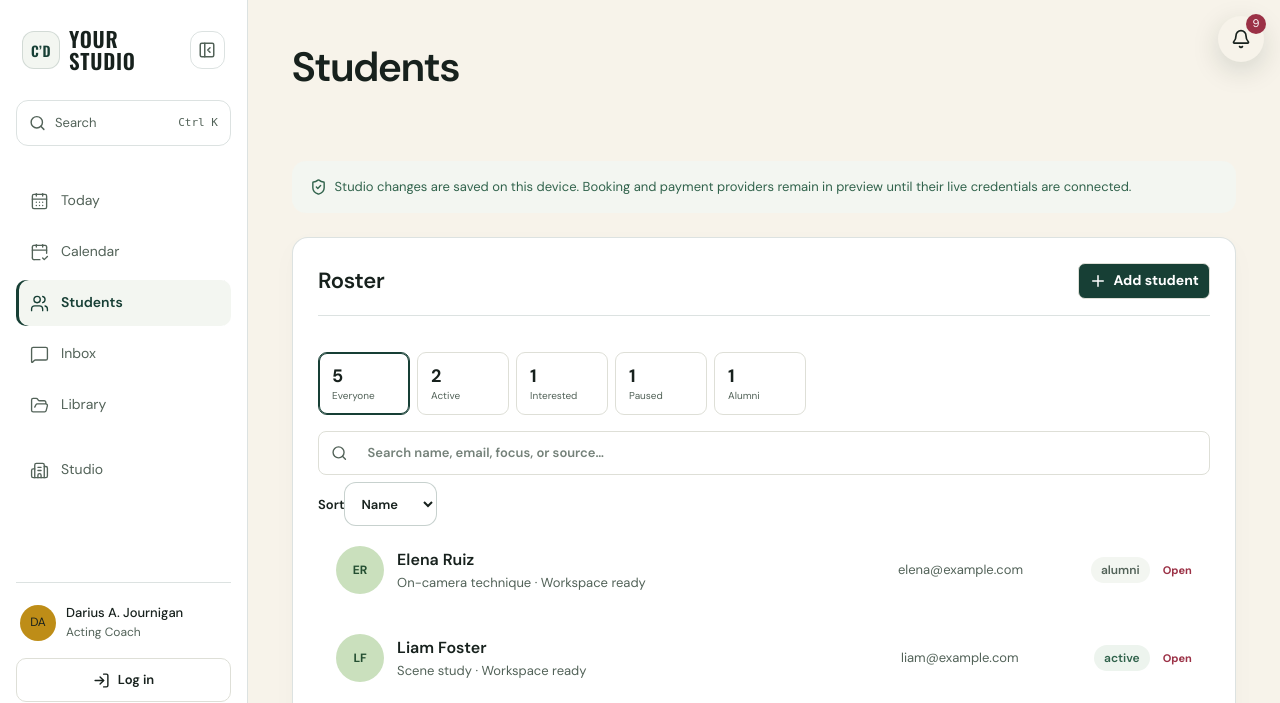
Test: 50 start-to-finish studio workflows › coach — 20 workflows › 04 adds a minor with guardian details
Click the button "Add student" at (1144, 281), box left=1078, top=263, right=1210, bottom=299
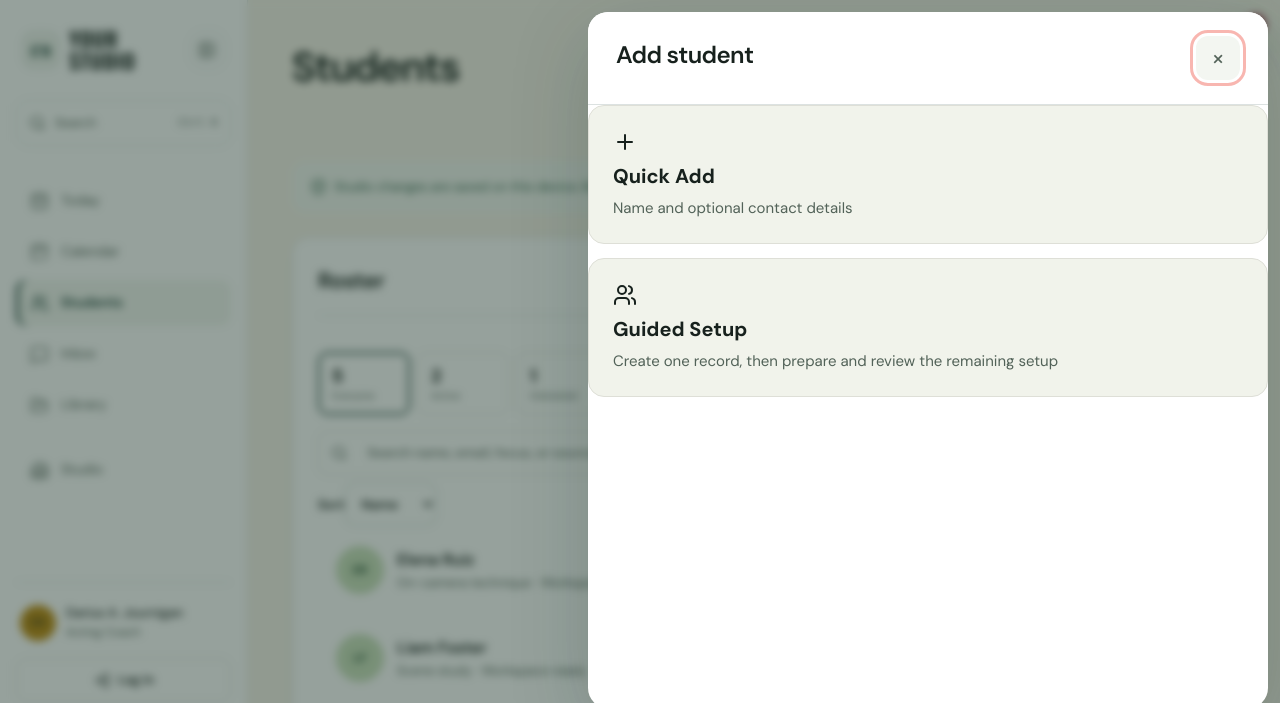
Click the button "Quick Add Name and optional contact details" at (664, 176), box left=588, top=105, right=1268, bottom=244
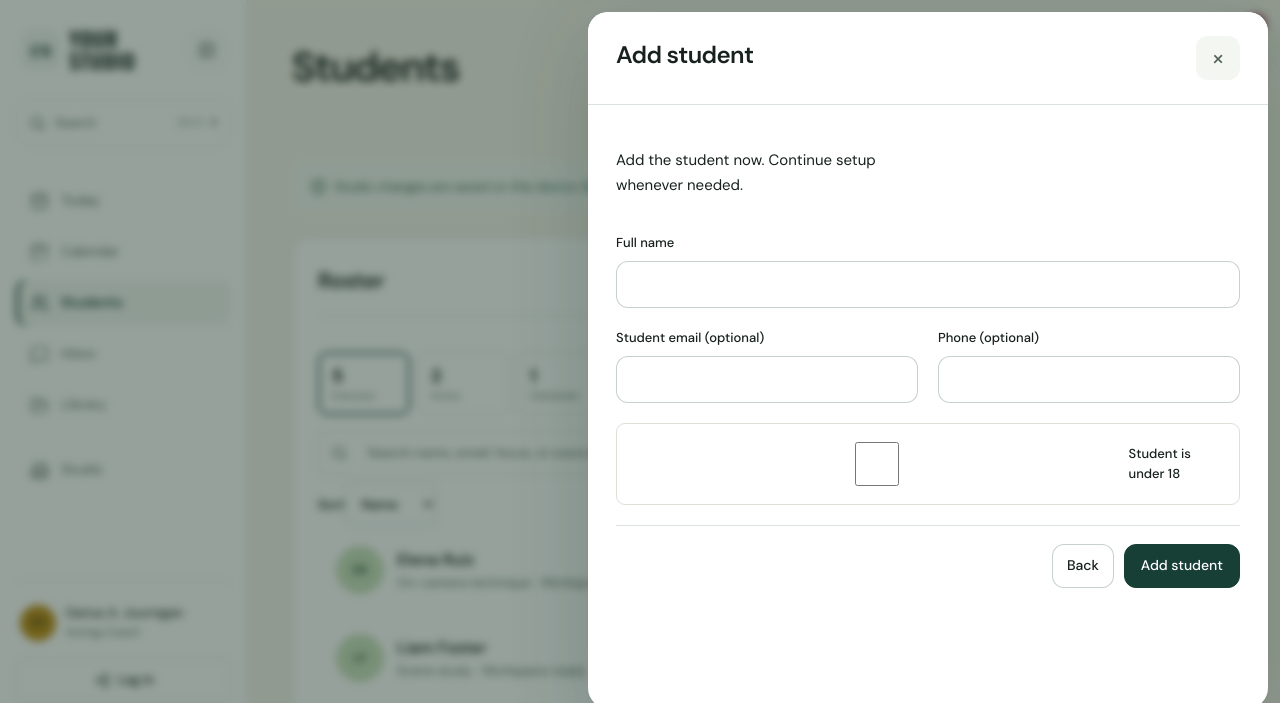
Type "Avery Stone" into the field labelled "Full name" at (928, 284), box left=616, top=261, right=1240, bottom=308
Click the checkbox labelled "Student is under 18" at (877, 464), box left=636, top=442, right=1118, bottom=486
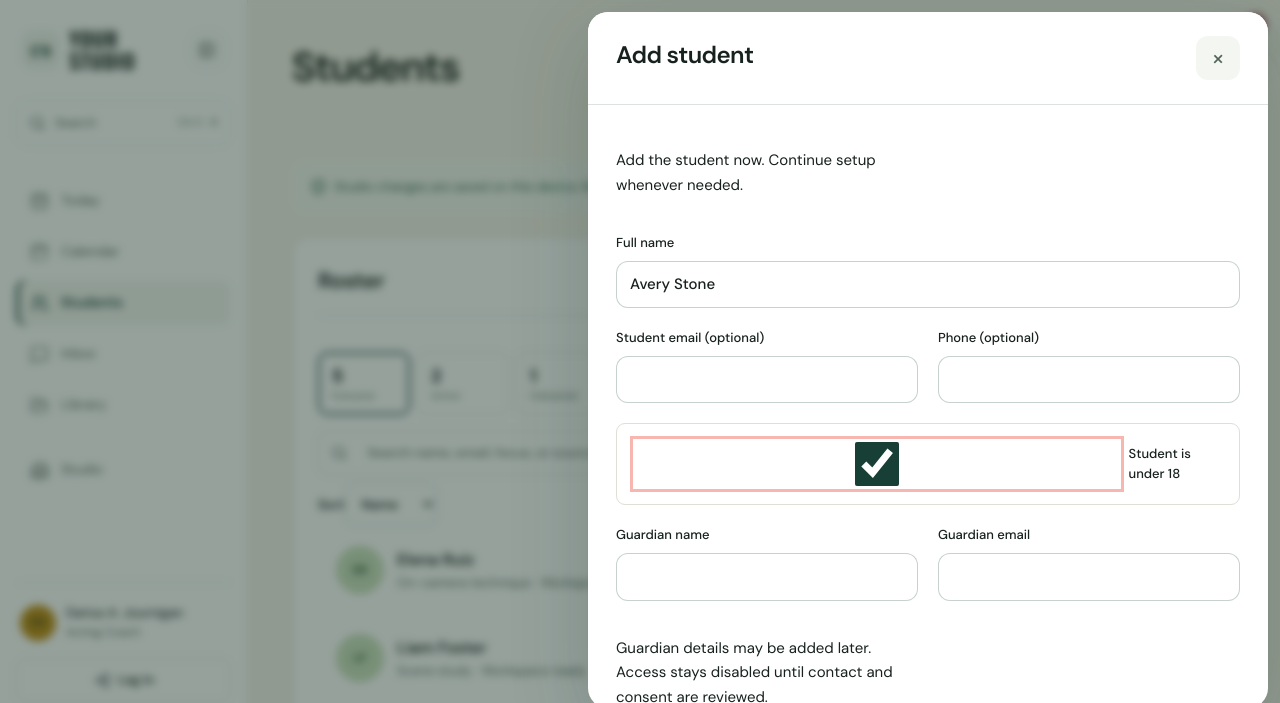
Type "Morgan Stone" into the field labelled "Guardian name" at (767, 577), box left=616, top=553, right=918, bottom=601
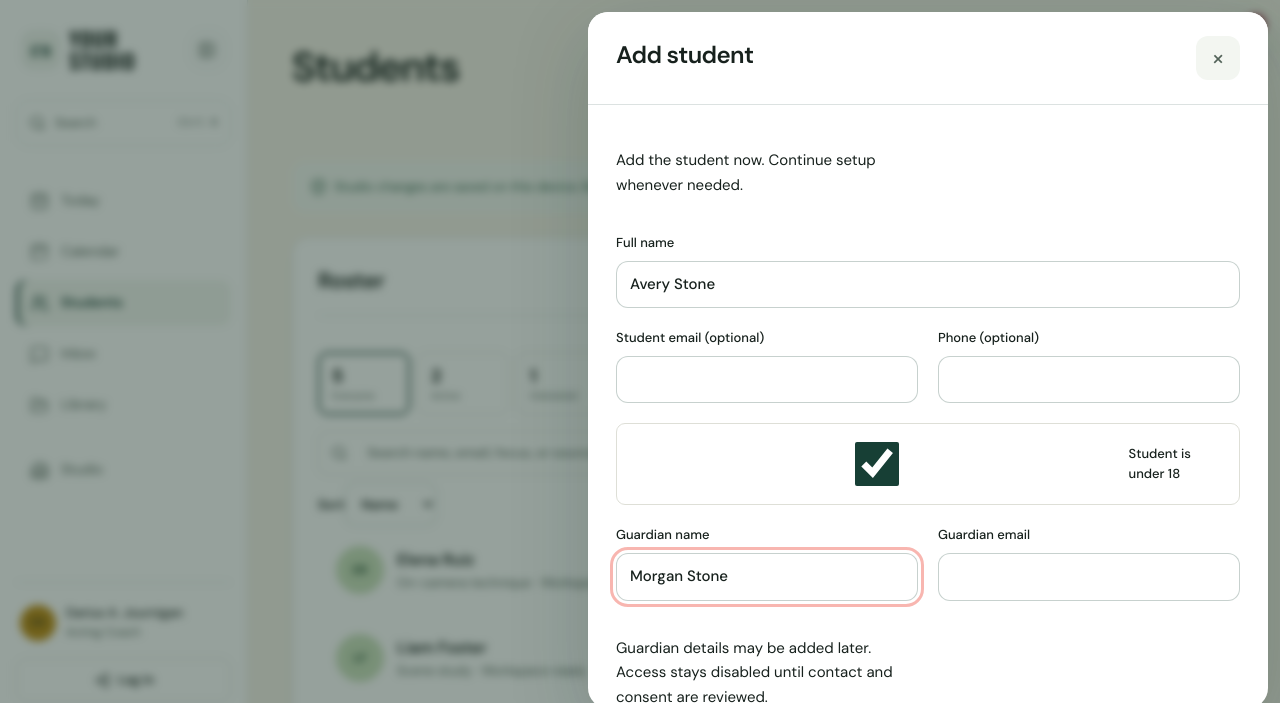
Type "morgan@example.com" into the field labelled "Guardian email" at (1089, 577), box left=938, top=553, right=1240, bottom=601
(page scrolled)
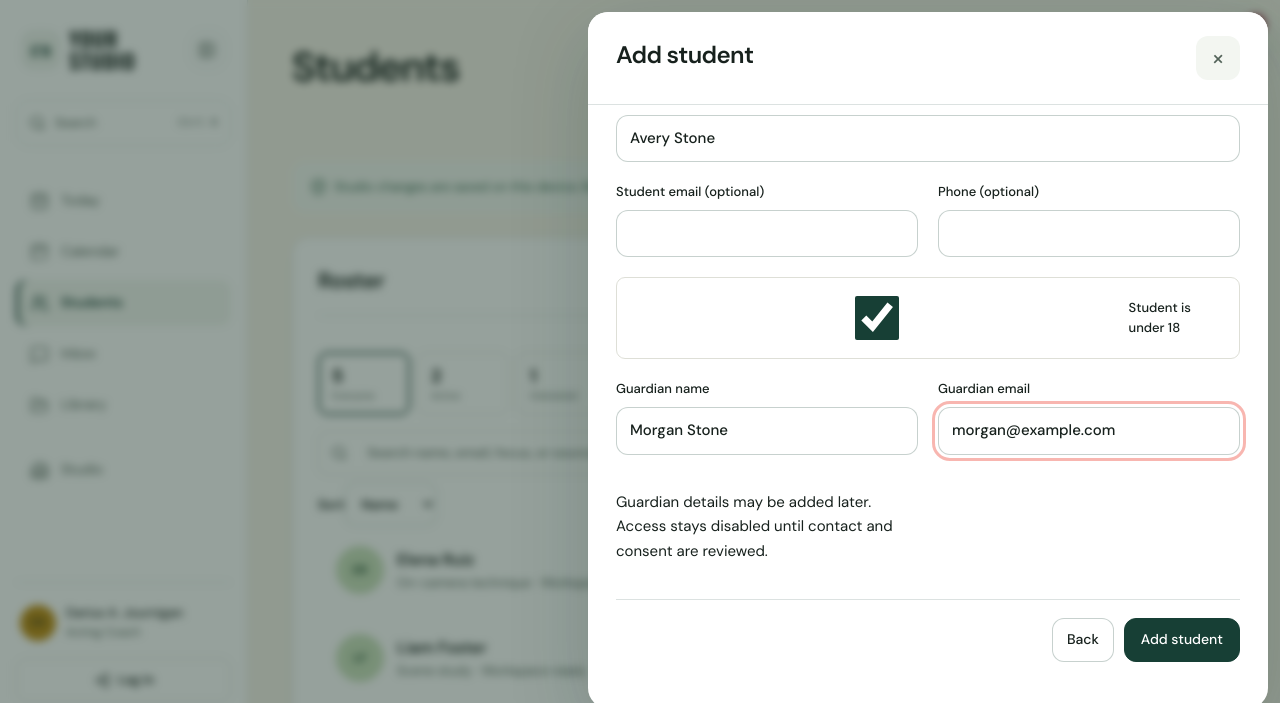
Click the button "Add student" at (1182, 640), box left=1124, top=618, right=1240, bottom=662
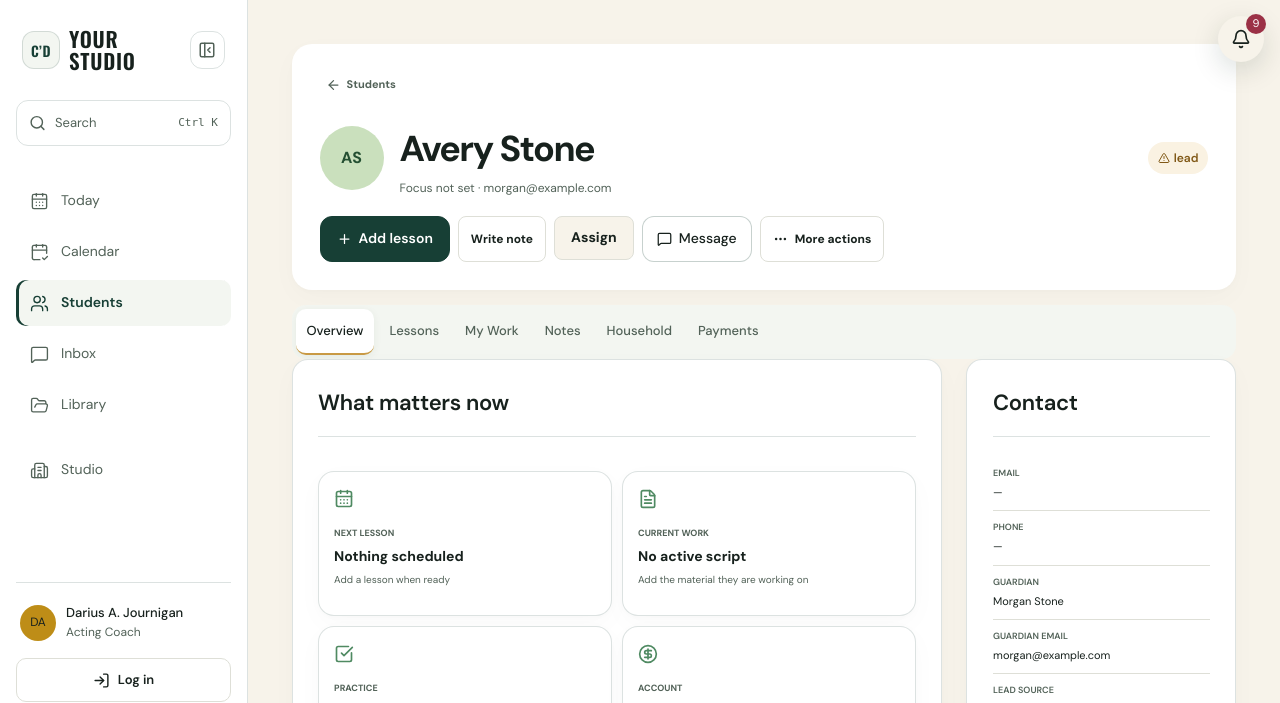
Expected: the heading "Avery Stone" is shown, left=400, top=124, right=594, bottom=172
